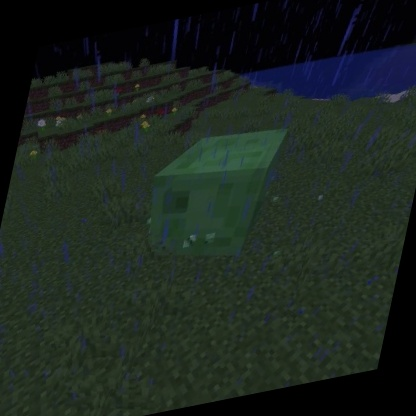slime: (126, 115, 295, 282)
